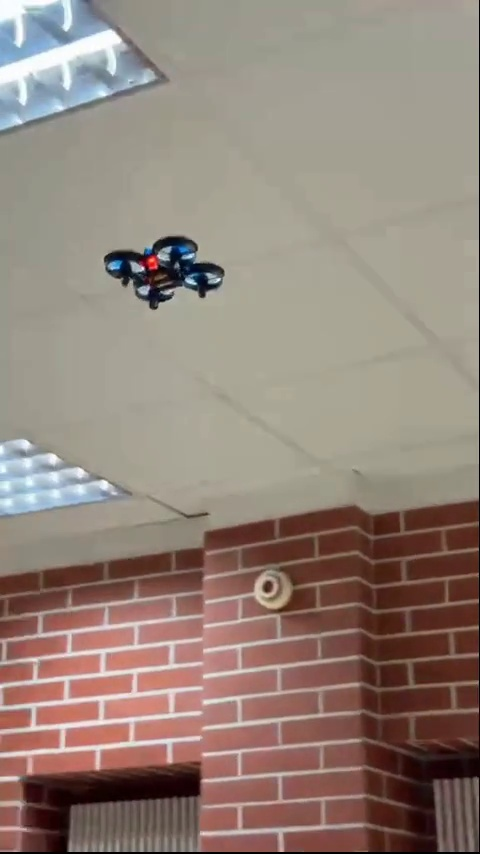drone: (105, 236, 223, 306)
